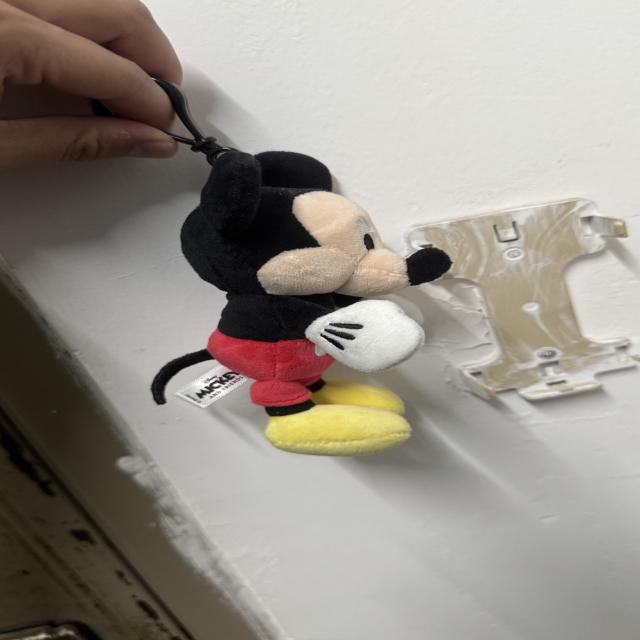mickey: (153, 152, 450, 455)
